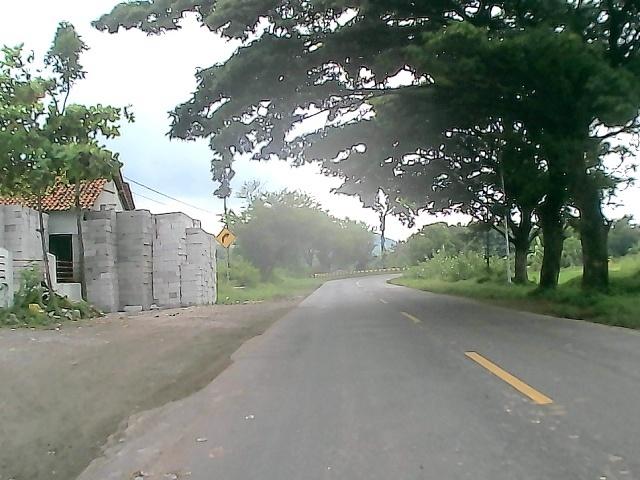Tikungan ke kanan: (216, 226, 237, 251)
